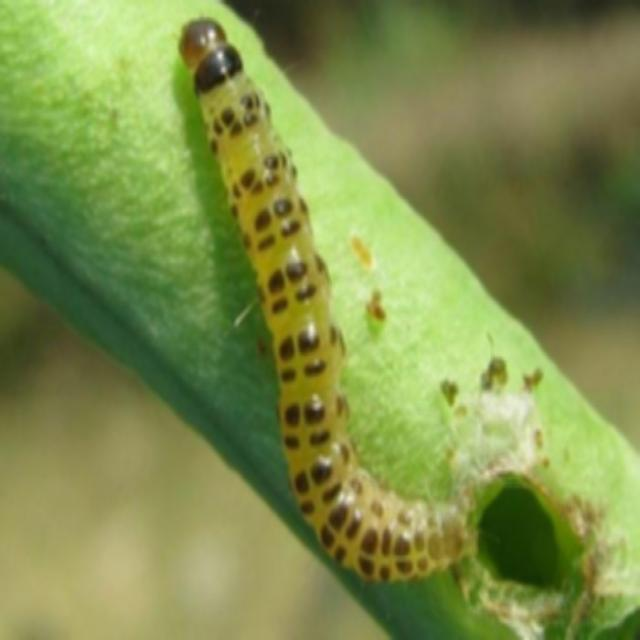peach borer: (175, 12, 482, 582)
